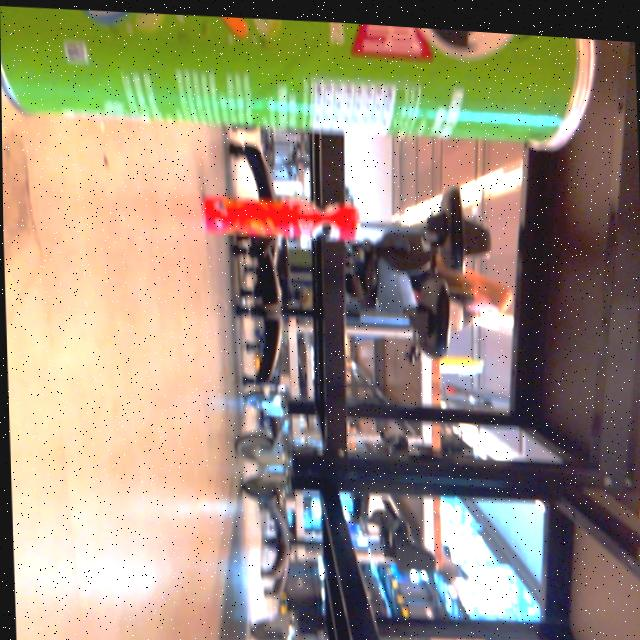greenpringles: (0, 0, 609, 170)
redpringles: (189, 175, 376, 255)
